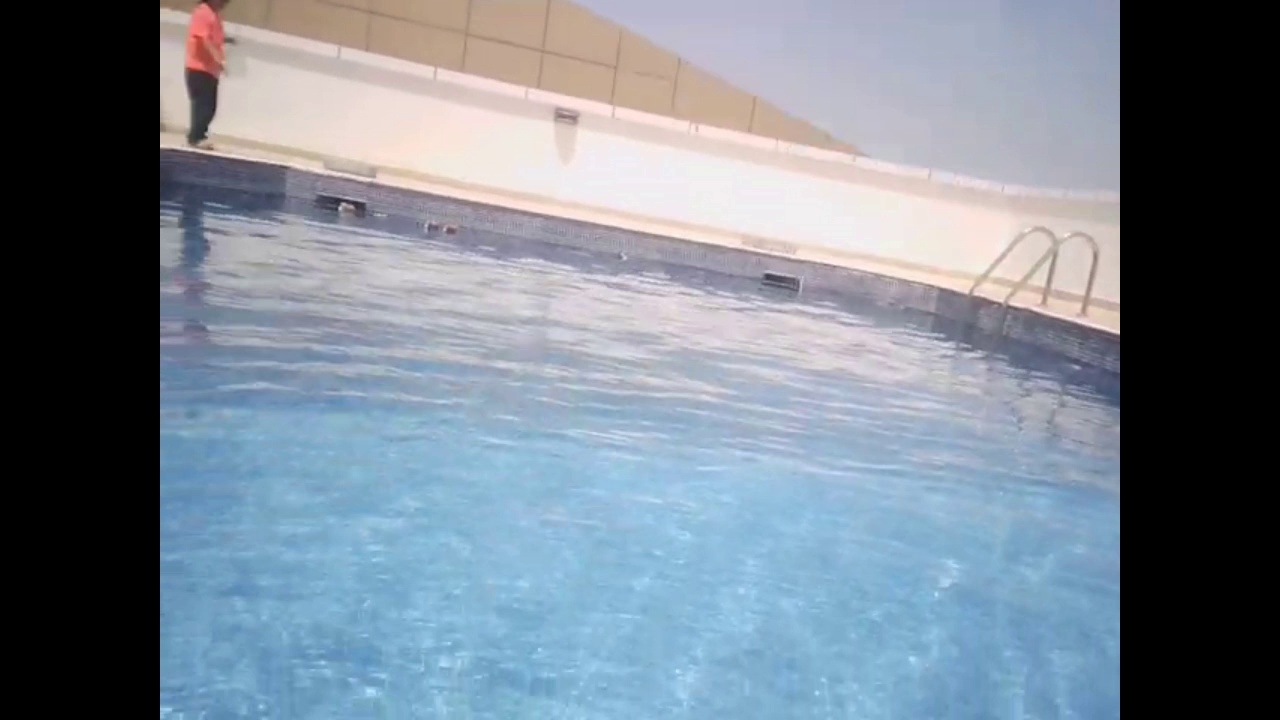debris: (334, 199, 360, 216), (438, 221, 462, 236), (421, 217, 439, 232), (614, 248, 631, 263)
